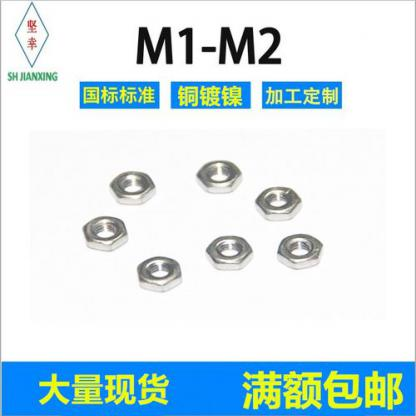FOD: (131, 252, 185, 294), (275, 229, 327, 272), (191, 159, 247, 197), (106, 168, 160, 206), (202, 233, 252, 272), (81, 214, 129, 254), (254, 183, 305, 220)
